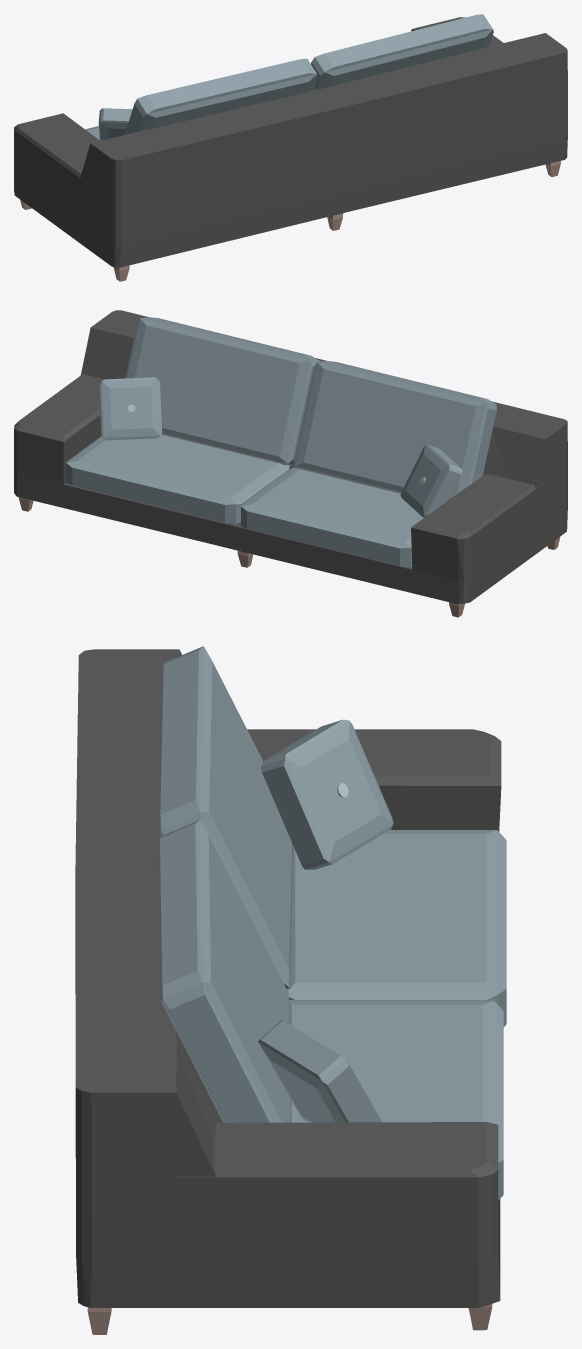
The model's file is couch.gltf.
3 renders of one model, top to bottom at view 1: azimuth 30°, elevation 25°; view 2: azimuth 150°, elevation 25°; view 3: azimuth 270°, elevation 25°, orthographic. The views are drawn at different scales.
Parts seen in each view (by area): view 1: model; view 2: model; view 3: model.
Part boxes in pixels (x1,y1,x2,y2): model: (14,14,567,281); model: (14,310,567,617); model: (75,646,506,1334).
Size of the model in its own units: 1.57 by 0.5129 by 0.6435.
